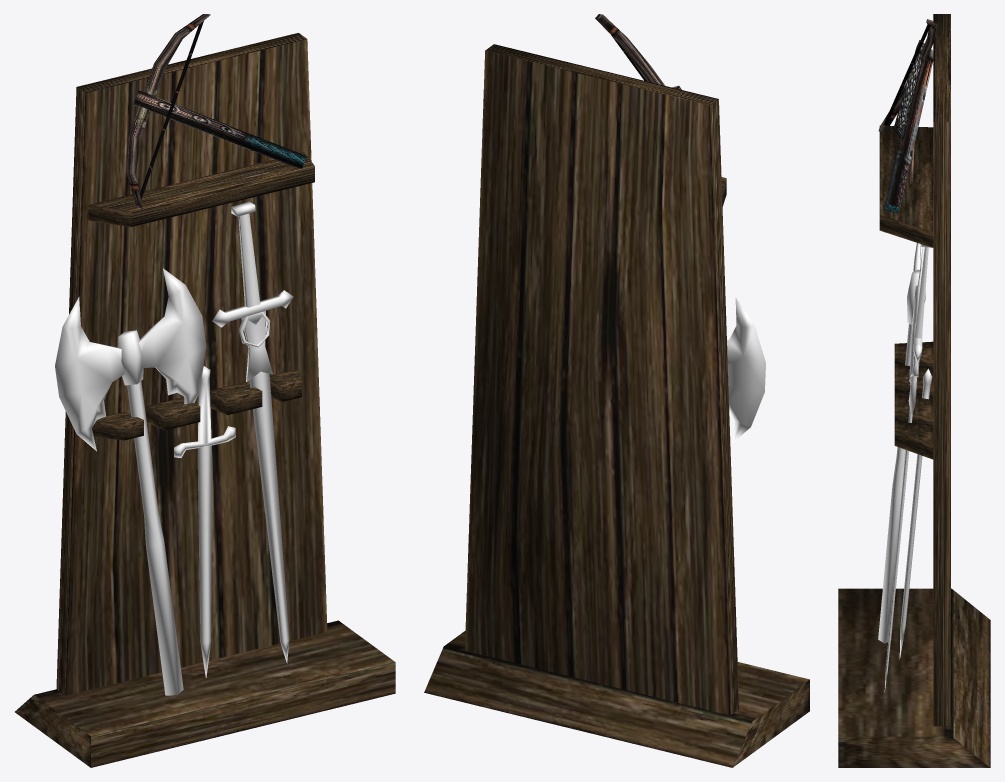
The model's file is OC_WEAPON_SHELF_NEW_V1.glb.
3 views of the same model, side by side, from view 1: azimuth 30°, elevation 25°; view 2: azimuth 150°, elevation 25°; view 3: azimuth 270°, elevation 25° (orthographic).
Parts seen in each view (by area): view 1: Mesh; view 2: Mesh; view 3: Mesh.
Part boxes in pixels (x1,y1,x2,y2): Mesh: (15, 14, 395, 767); Mesh: (424, 14, 809, 767); Mesh: (838, 14, 990, 767).
Size of the model in its own units: 1 by 2.14 by 0.4357.
Materials: 3 (2 with a texture image).
